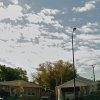Tree: (25, 50, 77, 89)
